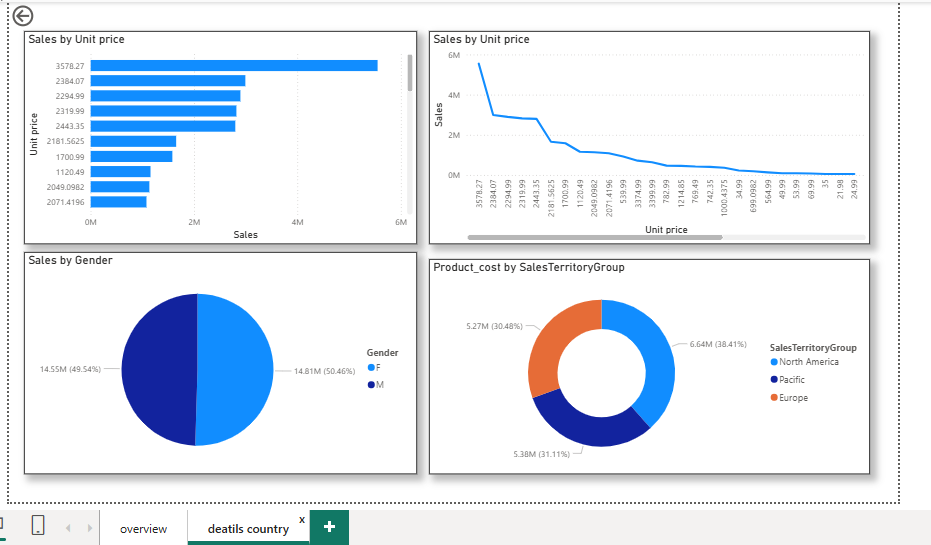

The page's visual inventory and layout, read from the dashboard file:
{"tool":"powerbi","page":{"name":"deatils country","canvas":[1280,720],"ordinal":1},"visuals":[{"type":"clusteredBarChart","fields":{"Category":["products_new.Unit price"],"Y":["Measures_table.Sales"]},"box":[21.9,41.1,565.7,307.3],"z":0},{"type":"pieChart","fields":{"Y":["Measures_table.Sales"],"Series":["DimCustomer.Gender"]},"box":[21.9,360,565.7,320.1],"z":1000},{"type":"lineChart","fields":{"Category":["products_new.Unit price"],"Y":["Measures_table.Sales"]},"box":[604.3,41.1,635.1,307.3],"z":2000},{"type":"donutChart","fields":{"Y":["Measures_table.Product_cost"],"Category":["Sales_Territory.SalesTerritoryGroup"]},"box":[604.3,370.3,635.1,309.8],"z":3000},{"type":"actionButton","box":[0,0,100,40],"z":4000}]}

Visuals, with their boxes in screenshot pixels (x1, y1, x2, y2):
clusteredBarChart - products_new.Unit price x Measures_table.Sales: 22,28,414,241
pieChart - Measures_table.Sales x DimCustomer.Gender: 22,249,414,471
lineChart - products_new.Unit price x Measures_table.Sales: 425,28,865,241
donutChart - Measures_table.Product_cost x Sales_Territory.SalesTerritoryGroup: 425,256,865,471
actionButton: 7,0,76,28
